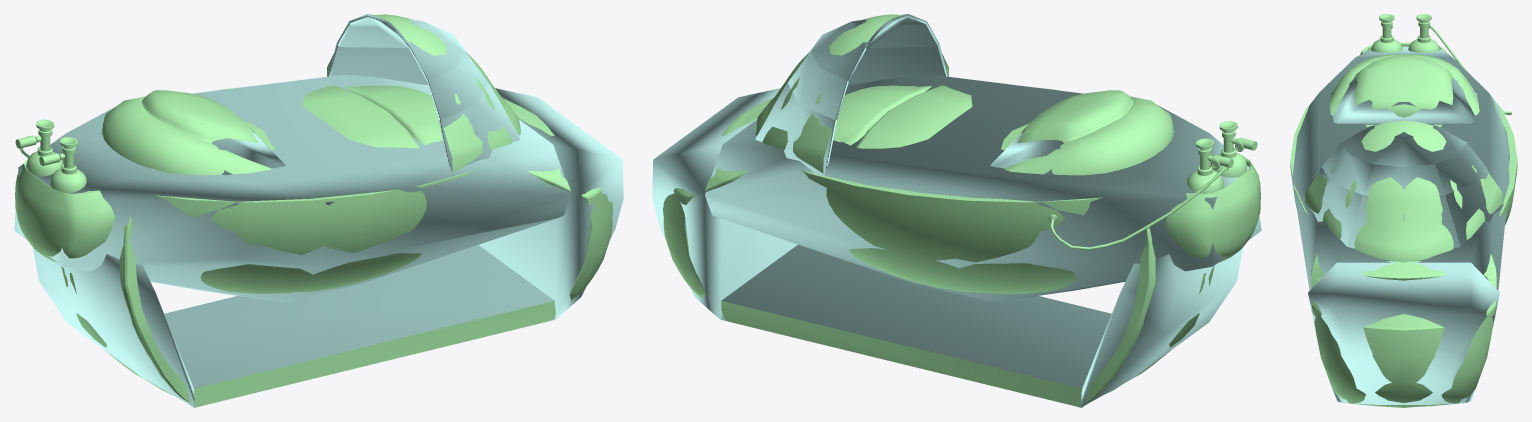
File: bed.fbx
The picture shows the model from 3 angles, left to right: view 1: azimuth 30°, elevation 25°; view 2: azimuth 150°, elevation 25°; view 3: azimuth 270°, elevation 25°; orthographic projection. The views are drawn at different scales.
Visible parts, largest first — view 1: bed_body_reference_physics, bed_body_reference; view 2: bed_body_reference_physics, bed_body_reference; view 3: bed_body_reference_physics, bed_body_reference.
Boxes of the visible parts, x1,y1,x2,y2 form: bed_body_reference_physics: [14, 14, 623, 407]; bed_body_reference: [15, 14, 613, 407]; bed_body_reference_physics: [652, 14, 1261, 407]; bed_body_reference: [662, 14, 1260, 407]; bed_body_reference_physics: [1292, 46, 1509, 404]; bed_body_reference: [1290, 14, 1517, 407].
Bounding box in the file's own units: 12358 × 6206 × 5478.
